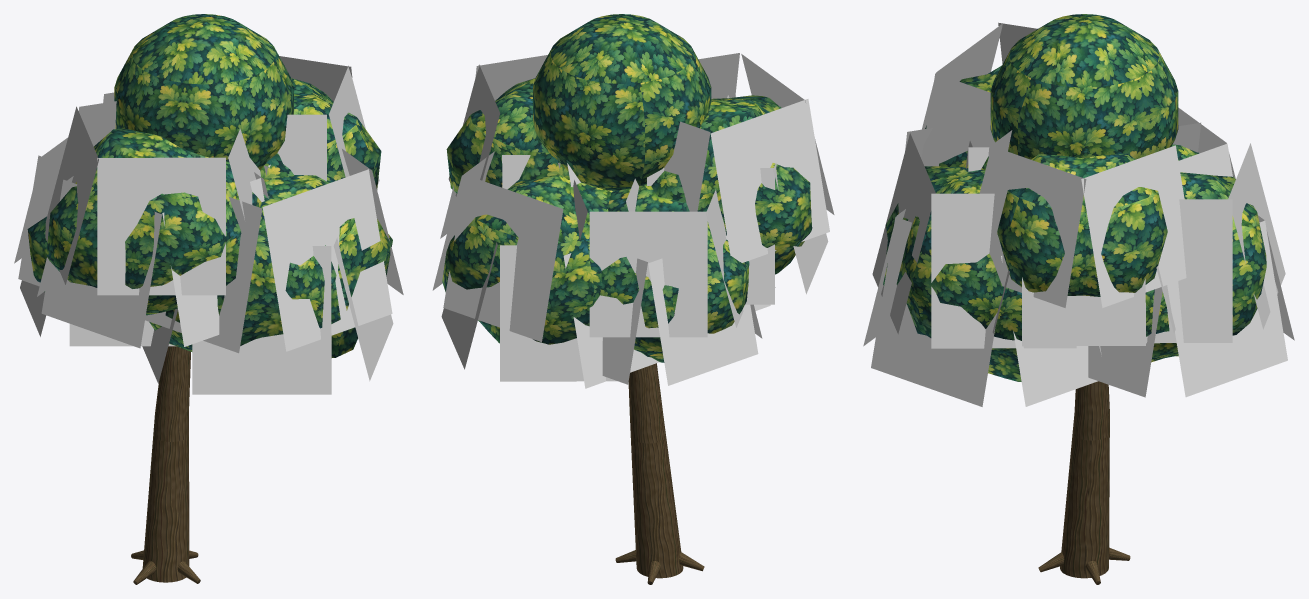
The model's file is NaturalTree_10.fbx.
3 renders of one model, left to right at view 1: azimuth 30°, elevation 25°; view 2: azimuth 150°, elevation 25°; view 3: azimuth 270°, elevation 25°, orthographic. The views are drawn at different scales.
Parts seen in each view (by area): view 1: NaturalTree_10.001; view 2: NaturalTree_10.001; view 3: NaturalTree_10.001.
Part boxes in pixels (x1,y1,x2,y2): NaturalTree_10.001: (14,14,403,584); NaturalTree_10.001: (432,14,834,584); NaturalTree_10.001: (863,14,1294,584).
Size of the model in its own units: 533 by 809 by 560.
3 materials, 2 textured.
